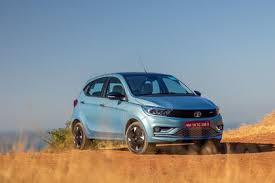Tiago: (69, 69, 228, 165)
